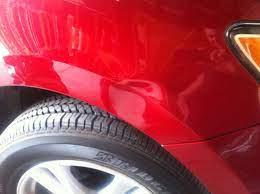fender-dent: (0, 1, 234, 150)
